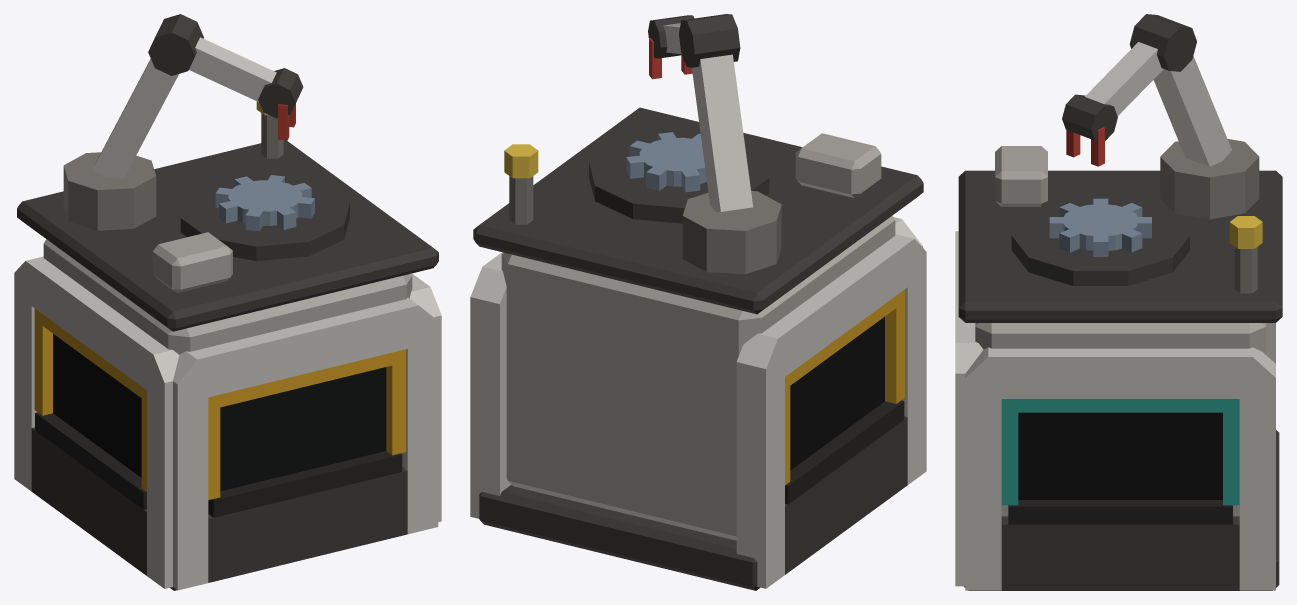
Rendered from assembler.fbx.
3 views of the same model, side by side, from view 1: azimuth 30°, elevation 25°; view 2: azimuth 150°, elevation 25°; view 3: azimuth 270°, elevation 25° (orthographic). The views are drawn at different scales.
Visible parts, largest first — view 1: assembler; view 2: assembler; view 3: assembler.
Boxes of the visible parts, bbox=[...] form: assembler: bbox=[14, 14, 441, 590]; assembler: bbox=[470, 14, 926, 590]; assembler: bbox=[955, 14, 1282, 590].
Bounding box in the file's own units: 3 × 4.91 × 2.97.
